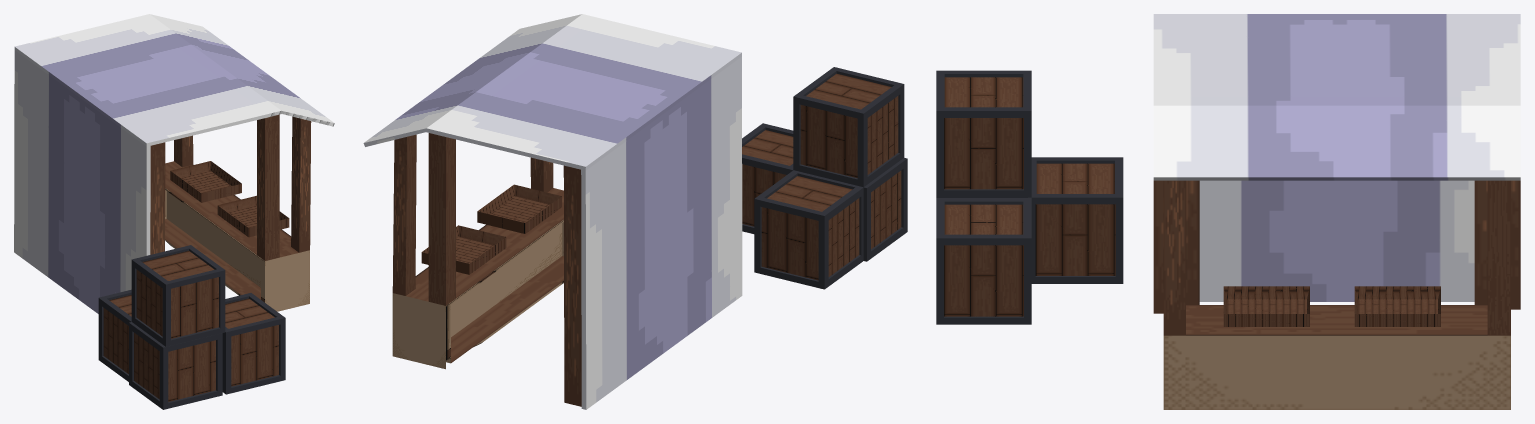
The model's file is Shop6.fbx.
3 renders of one model, left to right at view 1: azimuth 30°, elevation 25°; view 2: azimuth 150°, elevation 25°; view 3: azimuth 270°, elevation 25°, orthographic. The views are drawn at different scales.
Visible parts, largest first — view 1: Cube.037; view 2: Cube.037; view 3: Cube.037.
Part boxes in pixels (x1=…): Cube.037: x1=14, y1=14, x2=334, y2=409; Cube.037: x1=363, y1=14, x2=907, y2=409; Cube.037: x1=936, y1=14, x2=1520, y2=409.
Size of the model in its own units: 118 by 93.12 by 172.
12 materials, 12 textured.
